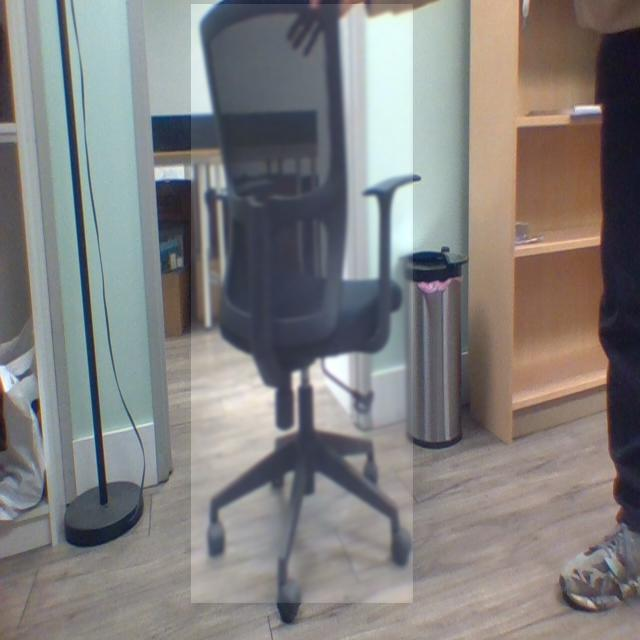black-chair: (191, 4, 414, 604)
